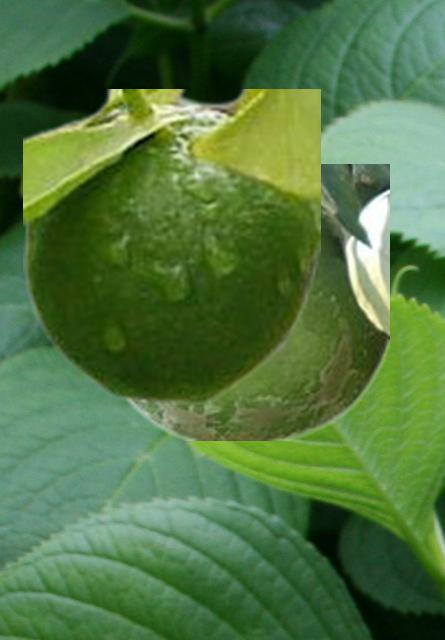dalandan: (23, 89, 319, 403), (121, 164, 388, 439)
